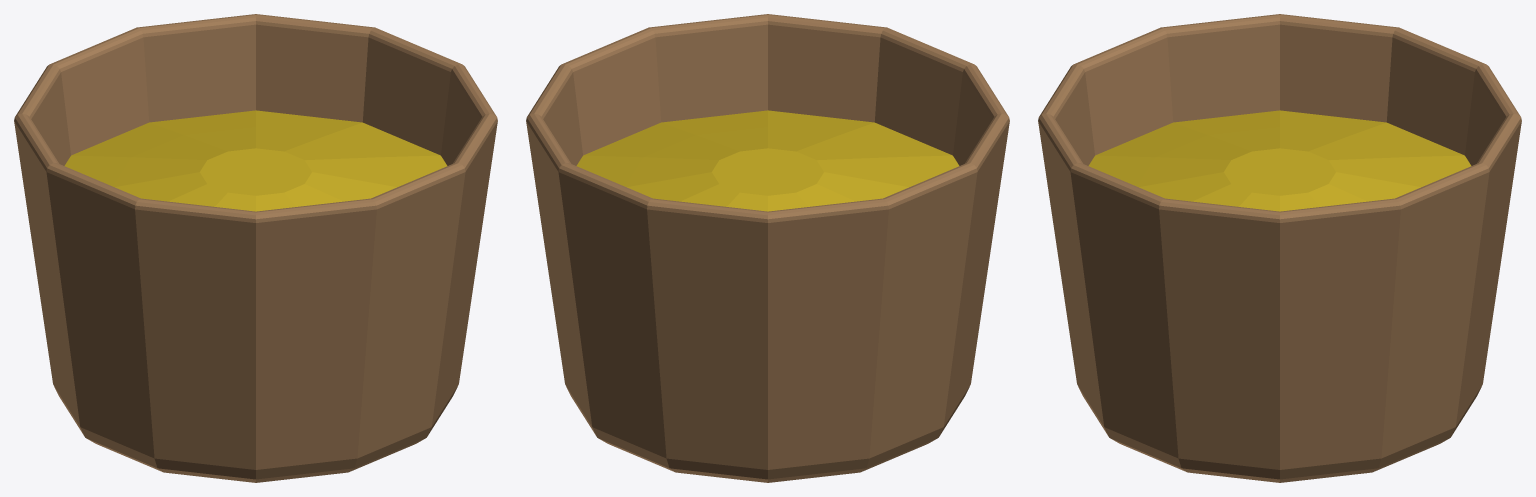
The model's file is Food Bowl Var 2 Filled.fbx.
The picture shows the model from 3 angles, left to right: view 1: azimuth 30°, elevation 25°; view 2: azimuth 150°, elevation 25°; view 3: azimuth 270°, elevation 25°; orthographic projection.
Visible parts, largest first — view 1: Food Bowl Var 2 filled; view 2: Food Bowl Var 2 filled; view 3: Food Bowl Var 2 filled.
Part boxes in pixels (x1,y1,x2,y2): Food Bowl Var 2 filled: (14, 14, 497, 482); Food Bowl Var 2 filled: (526, 14, 1009, 482); Food Bowl Var 2 filled: (1038, 14, 1521, 482).
Bounding box in the file's own units: 27.2 × 18.26 × 27.2.
